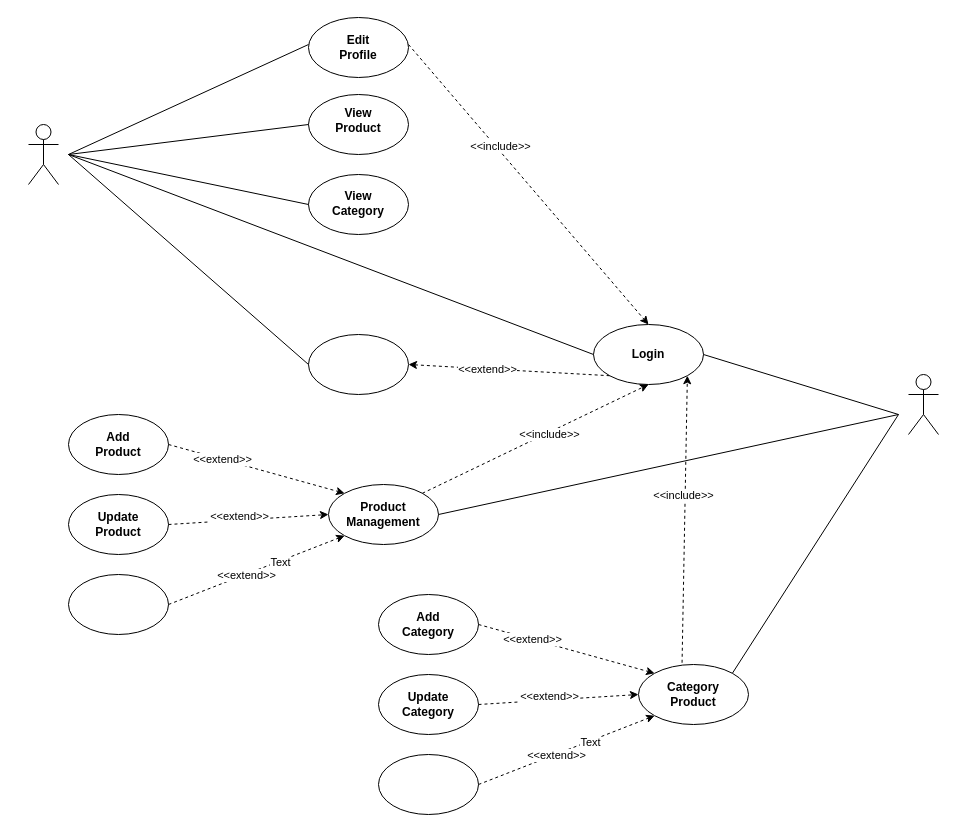
This 957x832 diagram has some shape labels left out. Here are the shapes that lost their labels. From the top down, the centre of each, then its label:
At point (43, 154): "Customer".
At point (358, 364): "Register".
At point (923, 404): "Admin".
At point (118, 604): "Delete Product".
At point (428, 784): "Delete Category".
